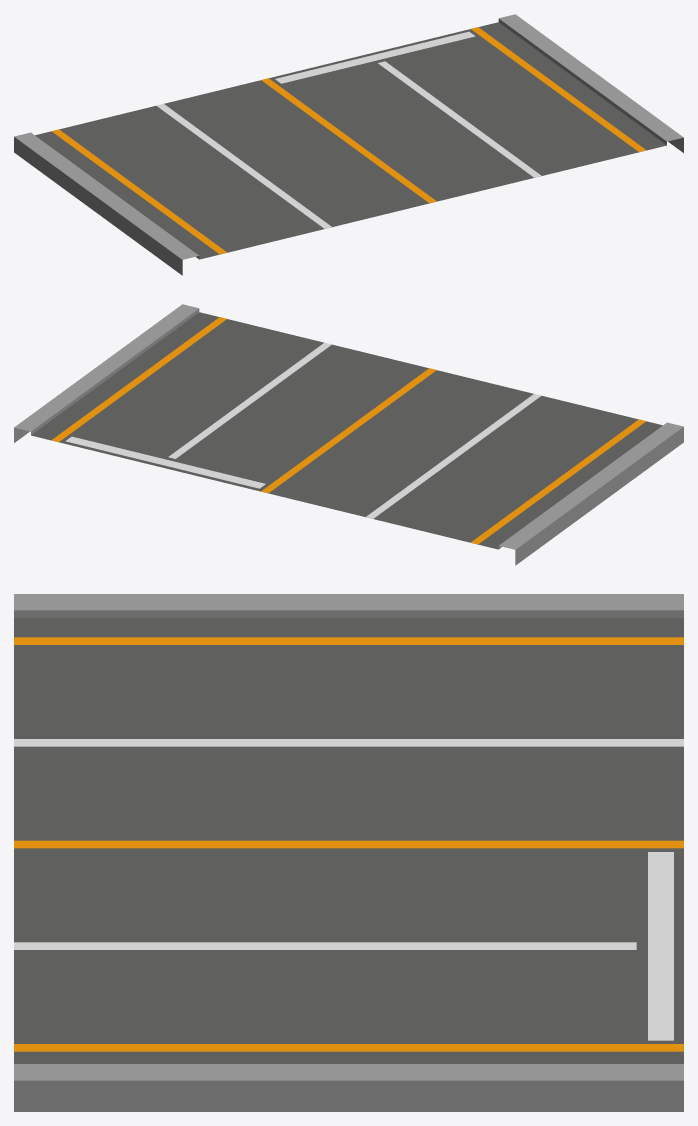
Rendered from Road_B_2L_2_7.glb.
3 renders of one model, top to bottom at view 1: azimuth 30°, elevation 25°; view 2: azimuth 150°, elevation 25°; view 3: azimuth 270°, elevation 25°, orthographic. The views are drawn at different scales.
Visible parts, largest first — view 1: Road_B_2L_2_7; view 2: Road_B_2L_2_7; view 3: Road_B_2L_2_7.
Boxes of the visible parts, left/top/right/bottom form: Road_B_2L_2_7: left=14, top=14, right=683, bottom=275; Road_B_2L_2_7: left=14, top=304, right=683, bottom=565; Road_B_2L_2_7: left=14, top=594, right=683, bottom=1111.
Bounding box in the file's own units: 13.75 × 0.4148 × 8.
1 material, 1 textured.
